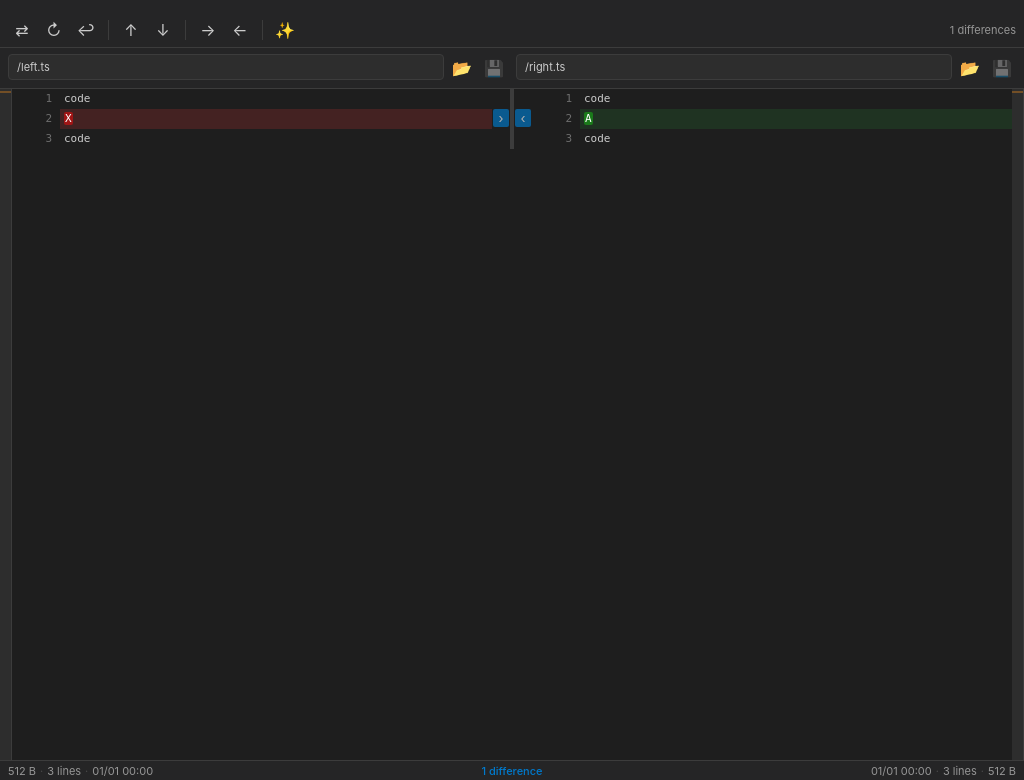
it: Clear selection (feature 5.6) › clear-selection (✕) button removes all selected rows
# Select the diff row via its line-no
Click the 3rd text with class "fd-line-no" at (49,118), box [45,112,52,125]
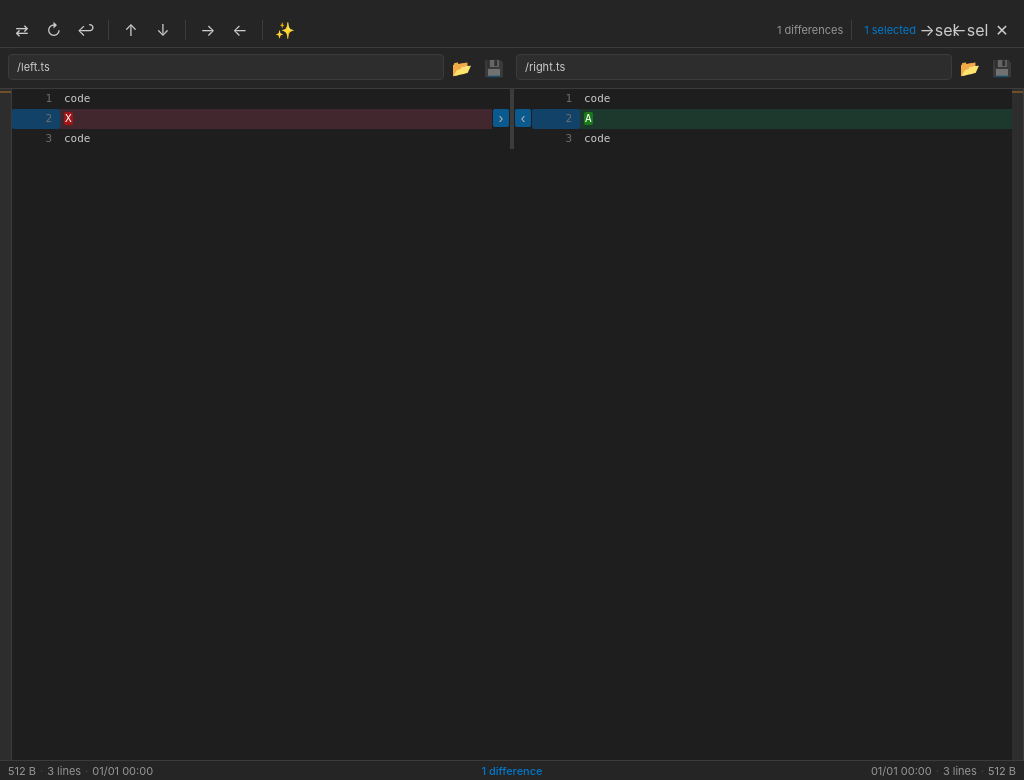
Expected: the text "1 selected" is shown, [860,22,920,36]
Click the button "✕" at (1002,30), box [988,16,1016,44]
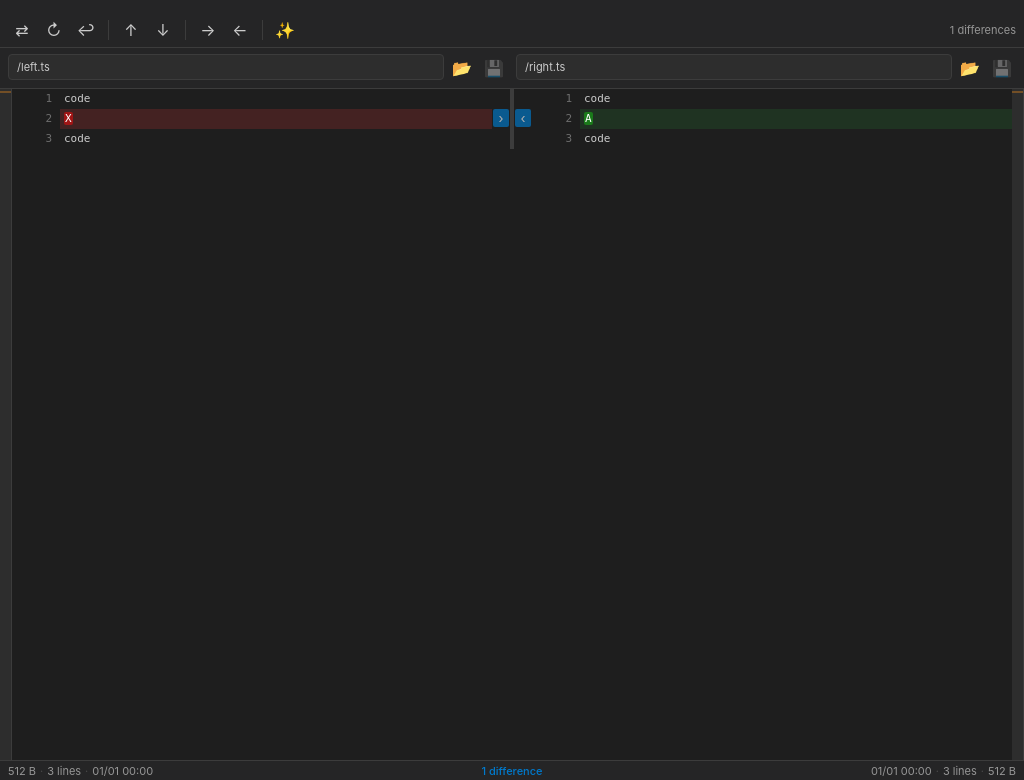
Expected: the text with class "fd-sel-count" is gone
